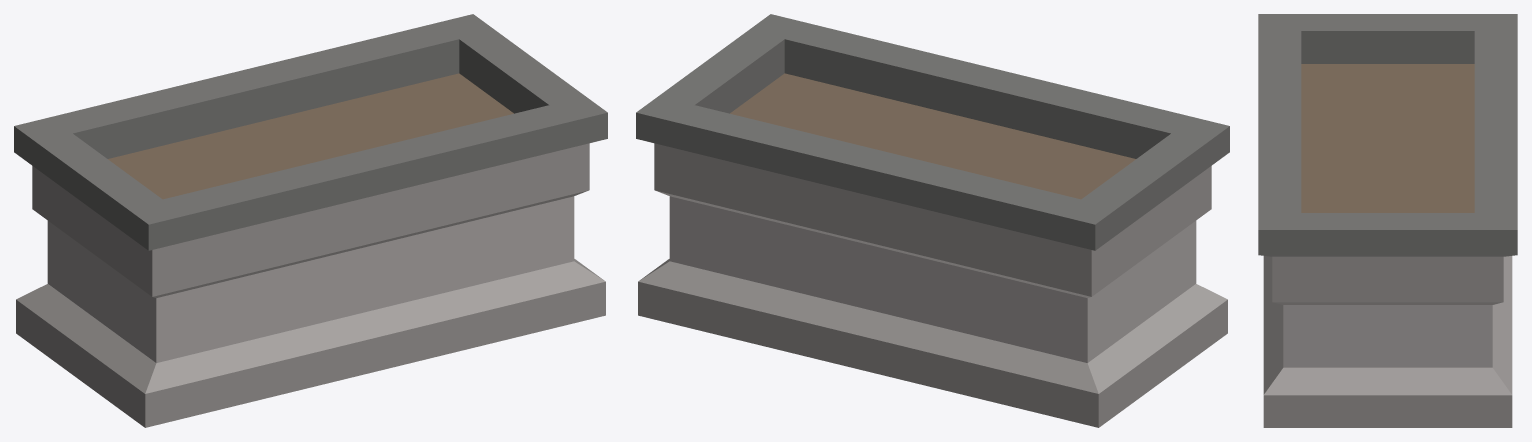
The model's file is SM_Prop_Planter_05.obj.
The picture shows the model from 3 angles, left to right: view 1: azimuth 30°, elevation 25°; view 2: azimuth 150°, elevation 25°; view 3: azimuth 270°, elevation 25°; orthographic projection. The views are drawn at different scales.
Parts seen in each view (by area): view 1: SM_Prop_Planter_05_M_PolygonOffice_01_A; view 2: SM_Prop_Planter_05_M_PolygonOffice_01_A; view 3: SM_Prop_Planter_05_M_PolygonOffice_01_A.
Part boxes in pixels (box(x1,y1,x2,y2)): SM_Prop_Planter_05_M_PolygonOffice_01_A: box(14, 14, 607, 427); SM_Prop_Planter_05_M_PolygonOffice_01_A: box(636, 14, 1229, 427); SM_Prop_Planter_05_M_PolygonOffice_01_A: box(1258, 14, 1517, 427).
Size of the model in its own units: 1.13 by 0.482 by 0.5737.
